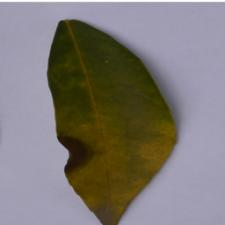Black: (33, 15, 183, 214)
